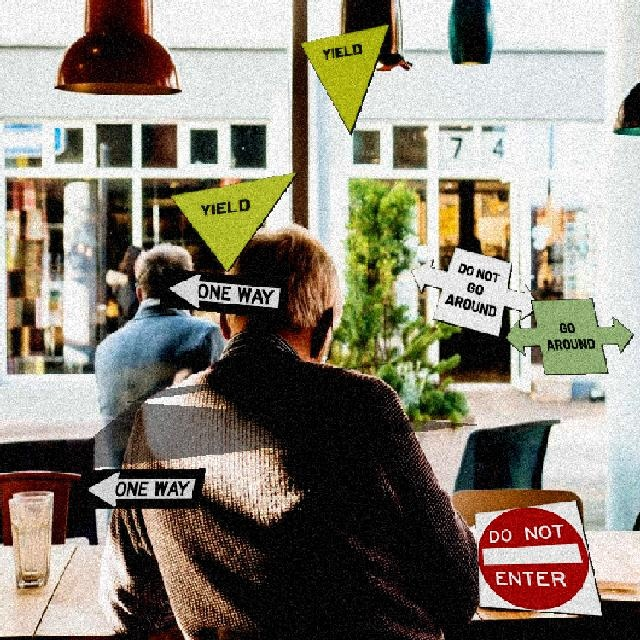DO_NOT_ENTER: (473, 498, 603, 616)
DO_NOT_GO_AROUND: (409, 245, 539, 337)
GO_AROUND: (503, 297, 633, 374)
ONE_WAY_ left: (158, 267, 288, 318), (75, 467, 205, 508)
YIELD: (168, 170, 298, 272), (298, 22, 390, 135)
